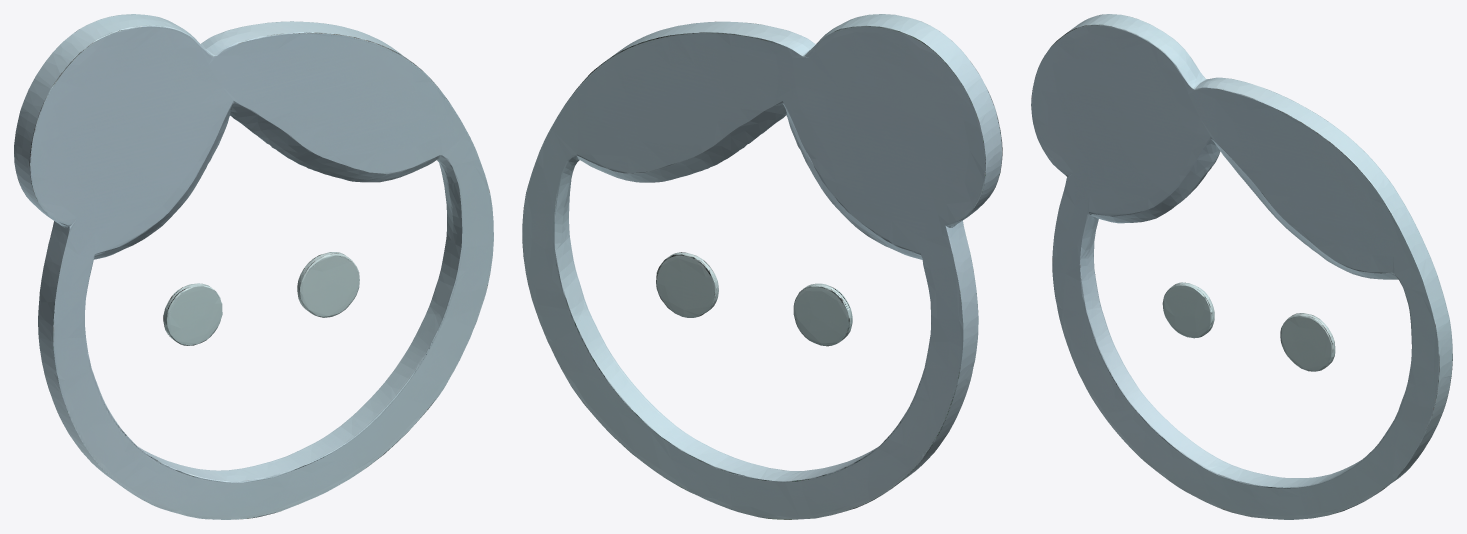
3 renders of one model, left to right at view 1: azimuth 30°, elevation 25°; view 2: azimuth 150°, elevation 25°; view 3: azimuth 330°, elevation 25°, orthographic. The views are drawn at different scales.
Parts seen in each view (by area): view 1: world; view 2: world; view 3: world.
Boxes of the visible parts, <box> form: world: <box>14,14,493,519</box>; world: <box>522,14,1002,519</box>; world: <box>1031,14,1452,519</box>.
Size of the model in its own units: 0.9275 by 0.995 by 0.0569.
Materials: 1 (1 with a texture image).
